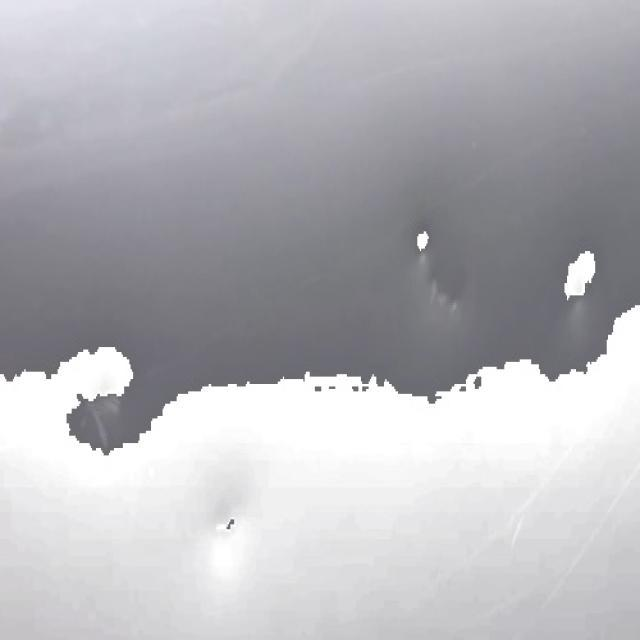dent: (548, 223, 607, 324), (412, 210, 469, 294)
